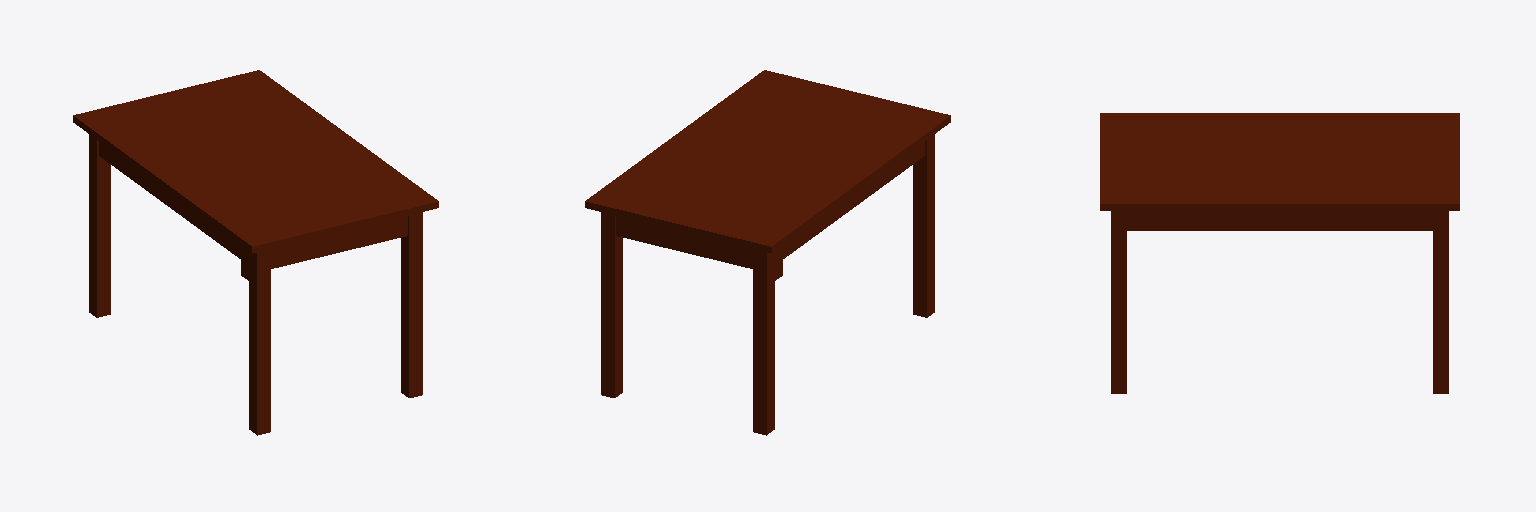
The picture shows the model from 3 angles: view 1: azimuth 30°, elevation 25°; view 2: azimuth 150°, elevation 25°; view 3: azimuth 270°, elevation 25°; orthographic projection.
Parts seen in each view (by area): view 1: deskWorn_OBJ:deskWorn; view 2: deskWorn_OBJ:deskWorn; view 3: deskWorn_OBJ:deskWorn.
Part boxes in pixels (left/top/right/bottom): deskWorn_OBJ:deskWorn: left=73, top=70, right=438, bottom=435; deskWorn_OBJ:deskWorn: left=585, top=70, right=950, bottom=435; deskWorn_OBJ:deskWorn: left=1100, top=113, right=1459, bottom=393.
Bounding box in the file's own units: 7.38 × 7.38 × 12.3.
Materials: 1 (1 with a texture image).